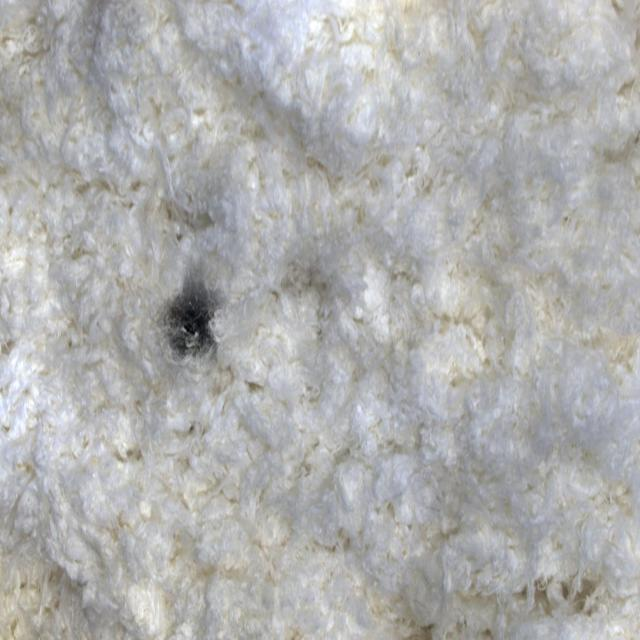dust: (137, 230, 256, 419)
